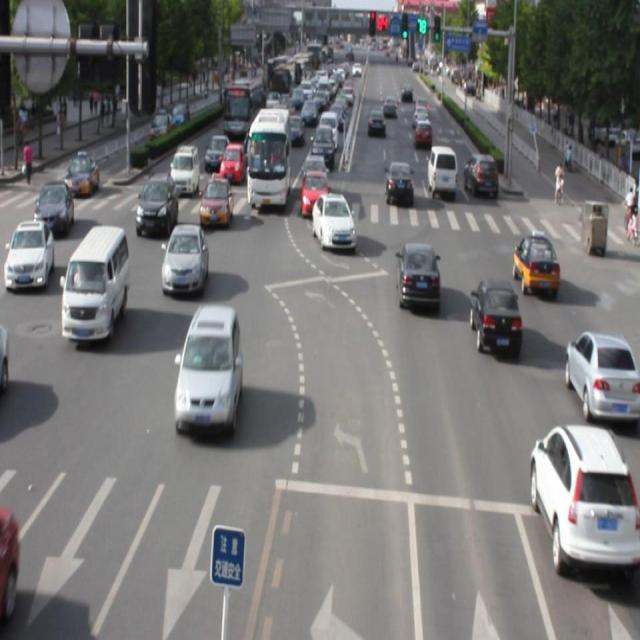car: (528, 424, 640, 570), (173, 303, 240, 429), (564, 328, 640, 421), (471, 276, 520, 352), (160, 220, 208, 296), (510, 232, 558, 294), (397, 241, 439, 309), (136, 171, 178, 234), (311, 196, 355, 253), (198, 176, 233, 226)
truck: (61, 223, 130, 341)
